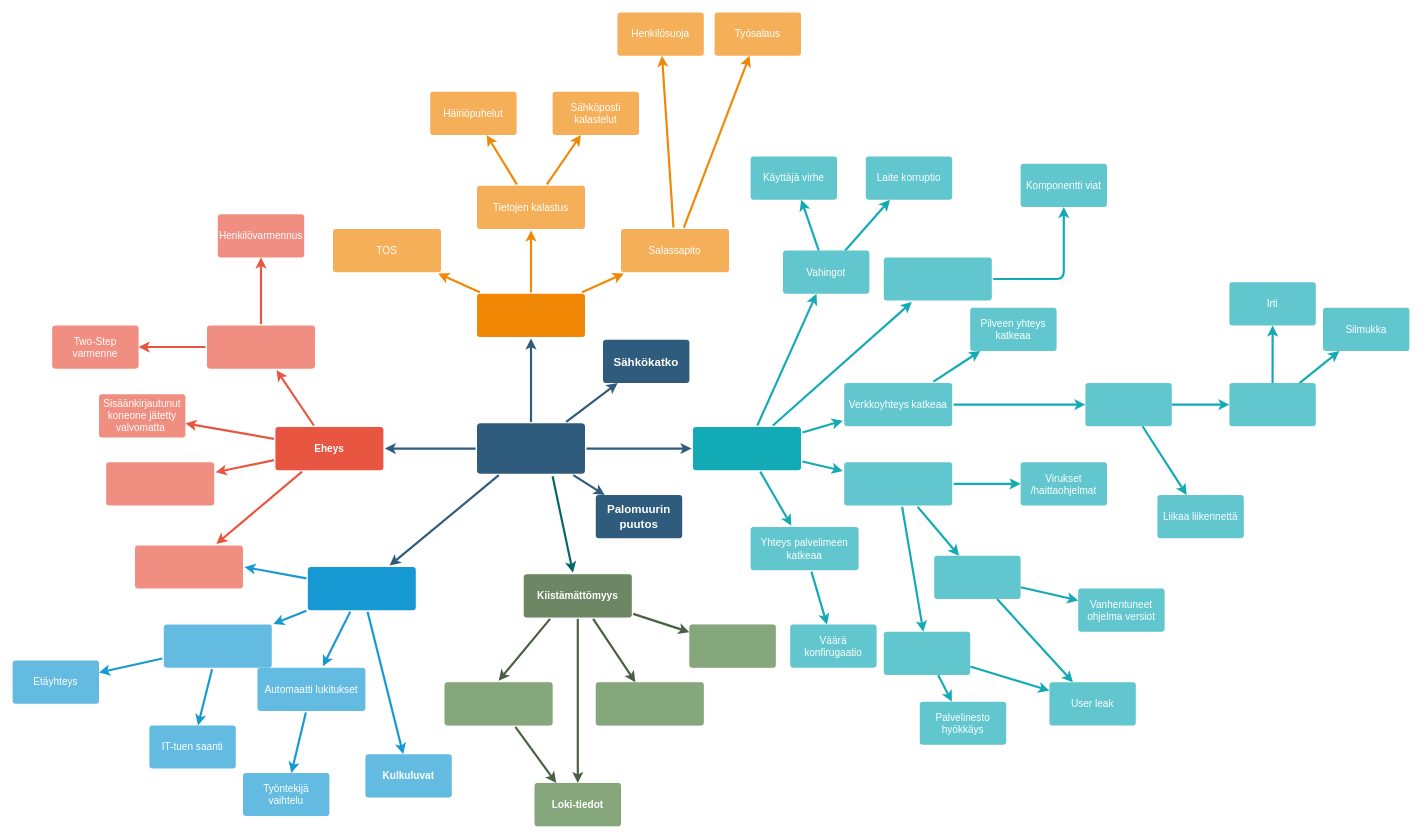
Some shapes in this 1421 by 838 pixel diagram are drawn without their labels. Each missing label, with the box of its shape:
Dokumentointi: (444, 682, 552, 725)
Heikko varmennus: (207, 325, 315, 368)
Huono salaus: (135, 545, 243, 588)
Kaapeli vika: (1229, 383, 1315, 426)
Kampusverkon ongelmat: (1085, 383, 1171, 426)
Käytettävyys: (693, 427, 801, 470)
Käyttäjä hallinta: (163, 624, 271, 667)
Luottamuksellisuus: (477, 293, 585, 337)
Pääsynvalvonta: (307, 567, 415, 610)
Sisäinen: (934, 555, 1020, 599)
Sopimukset: (689, 624, 775, 667)
Tietomurto: (844, 462, 952, 505)
Tietoturva: (477, 423, 585, 473)
Työasema: (883, 257, 991, 300)
Ulkoinen: (883, 631, 970, 675)
Vakuutukset: (595, 682, 703, 725)
Varmuuskopionti: (106, 462, 214, 505)
